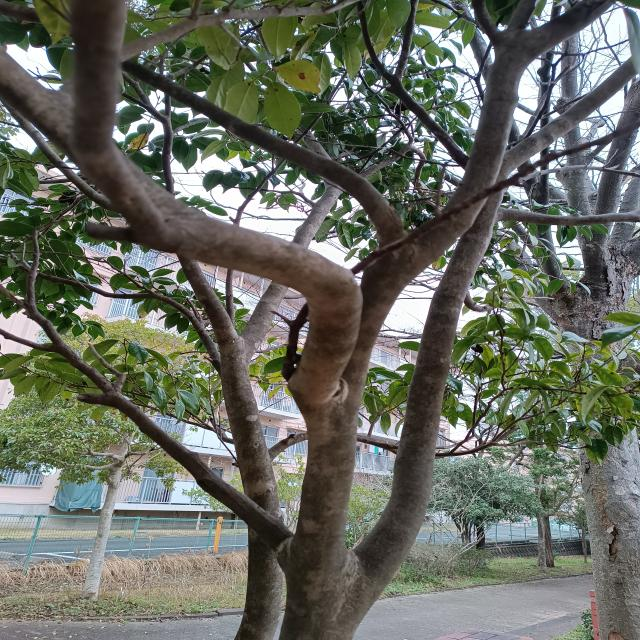Branch: (286, 238, 453, 631), (353, 181, 501, 603), (412, 0, 614, 242), (0, 44, 184, 253), (177, 204, 360, 413), (65, 1, 122, 166)
Twig: (24, 230, 293, 550), (128, 57, 406, 244), (359, 1, 469, 171), (504, 56, 634, 179), (498, 208, 639, 225)
